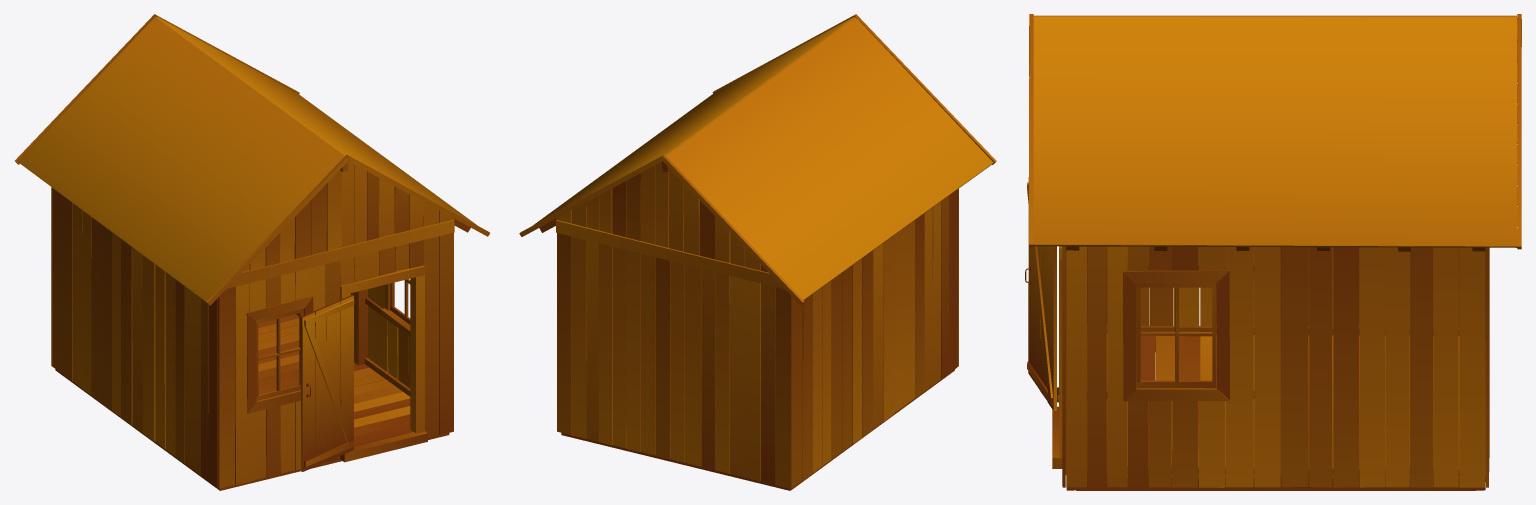
File: Gubuk.fbx
3 renders of one model, left to right at view 1: azimuth 30°, elevation 25°; view 2: azimuth 150°, elevation 25°; view 3: azimuth 270°, elevation 25°, orthographic. The views are drawn at different scales.
Visible parts, largest first — view 1: Base_PBR_0; view 2: Base_PBR_0; view 3: Base_PBR_0.
Boxes of the visible parts, x1,y1,x2,y2 form: Base_PBR_0: (15,14,489,490); Base_PBR_0: (519,14,996,490); Base_PBR_0: (1025,14,1521,490).
Bounding box in the file's own units: 577 × 618 × 687.
